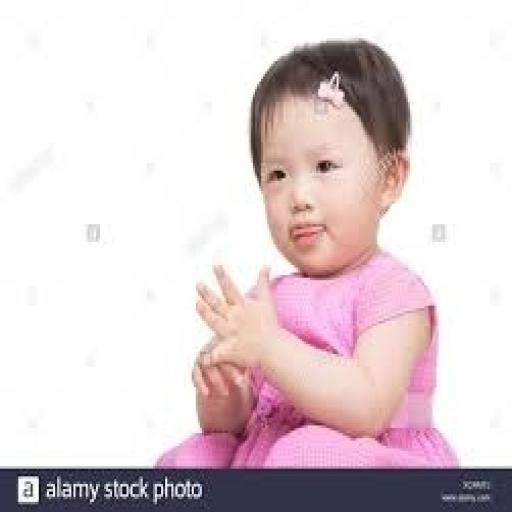clapping: (153, 36, 459, 468)
